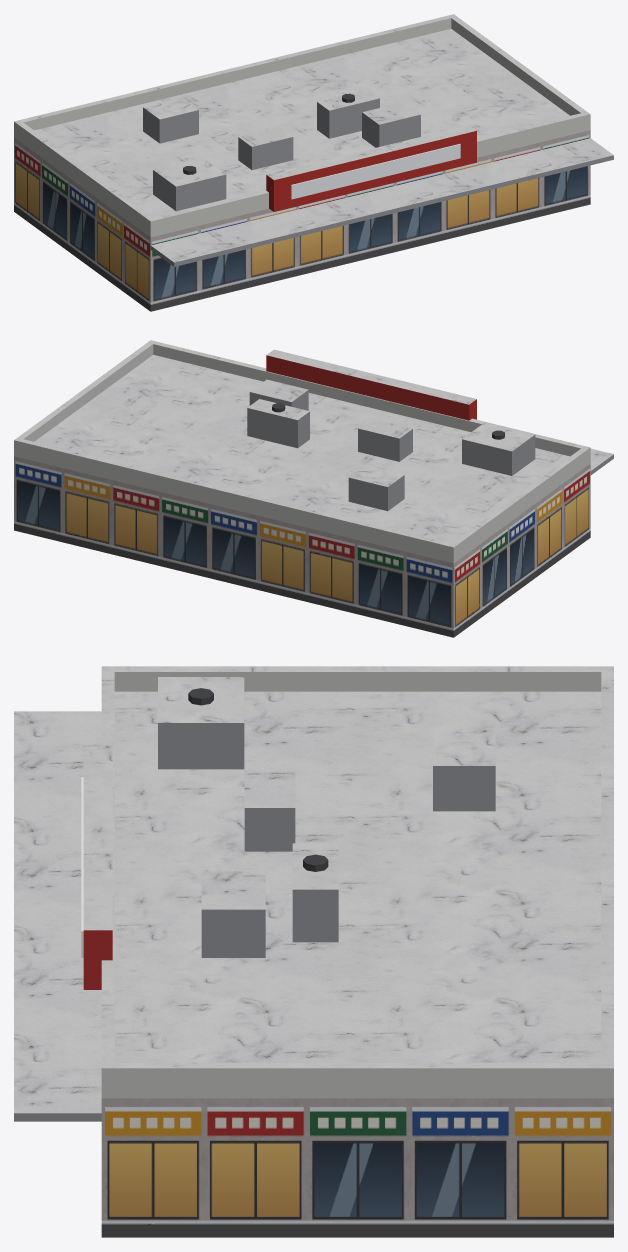
Rendered from c_market.glb.
The picture shows the model from 3 angles, top to bottom: view 1: azimuth 30°, elevation 25°; view 2: azimuth 150°, elevation 25°; view 3: azimuth 270°, elevation 25°; orthographic projection. The views are drawn at different scales.
Parts seen in each view (by area): view 1: House; view 2: House; view 3: House.
Boxes of the visible parts, left/top/right/bottom form: House: left=14, top=14, right=613, bottom=311; House: left=14, top=340, right=613, bottom=637; House: left=14, top=666, right=613, bottom=1237.
Size of the model in its own units: 26 by 6.29 by 16.4.
3 materials, 3 textured.
